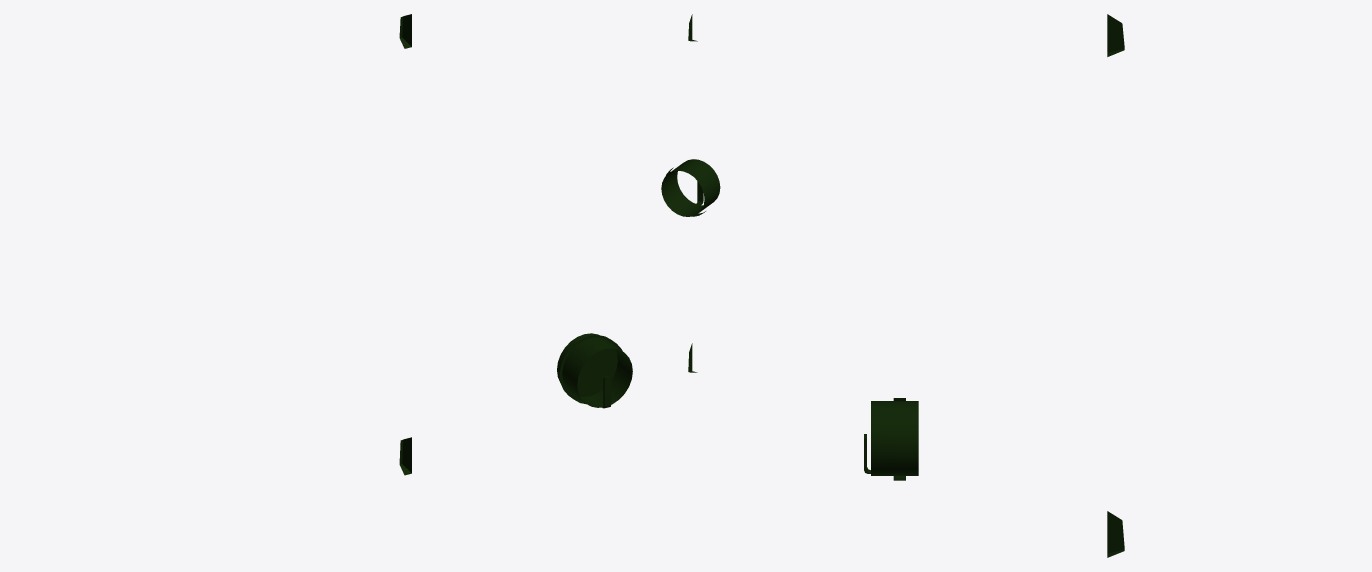
File: Microwave_1_bodymesh_0_4.obj
3 renders of one model, left to right at view 1: azimuth 30°, elevation 25°; view 2: azimuth 150°, elevation 25°; view 3: azimuth 270°, elevation 25°, orthographic. The views are drawn at different scales.
Bounding box in the file's own units: 0.258 × 0.328 × 0.2269.
